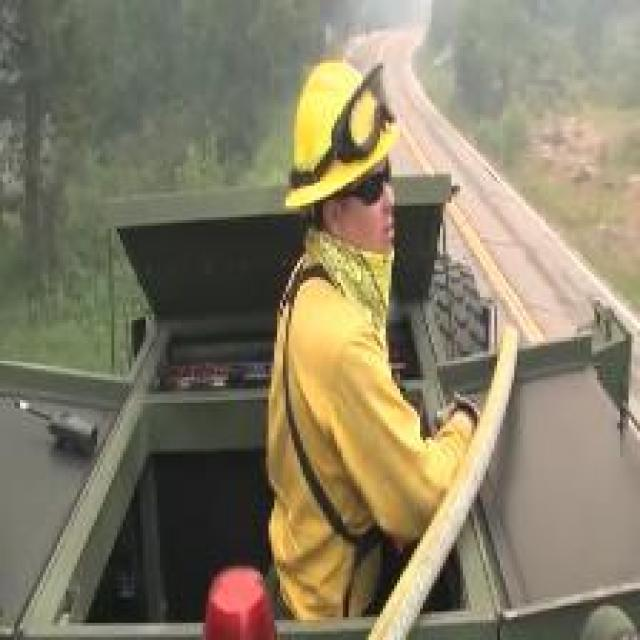other: (157, 42, 488, 631)
